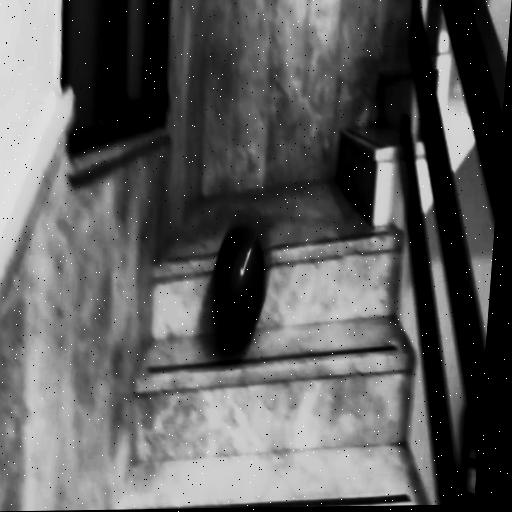balloon: (199, 188, 274, 373)
